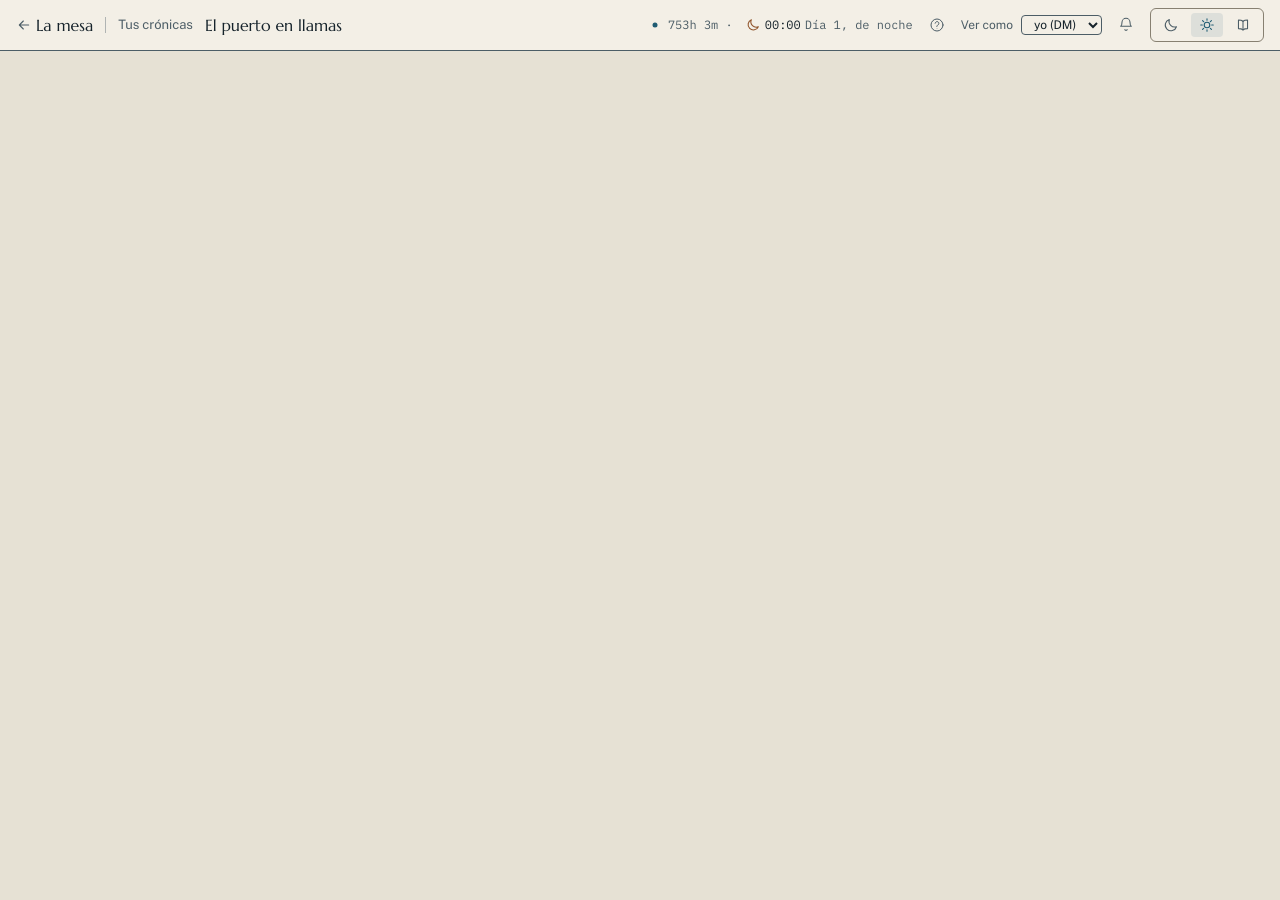
it: el diálogo de atajos › se abre con «?» y lista las teclas que de verdad existen
Click the button named "Atajos de teclado".
click(937, 25)  # box x1=925 y1=13 x2=949 y2=37
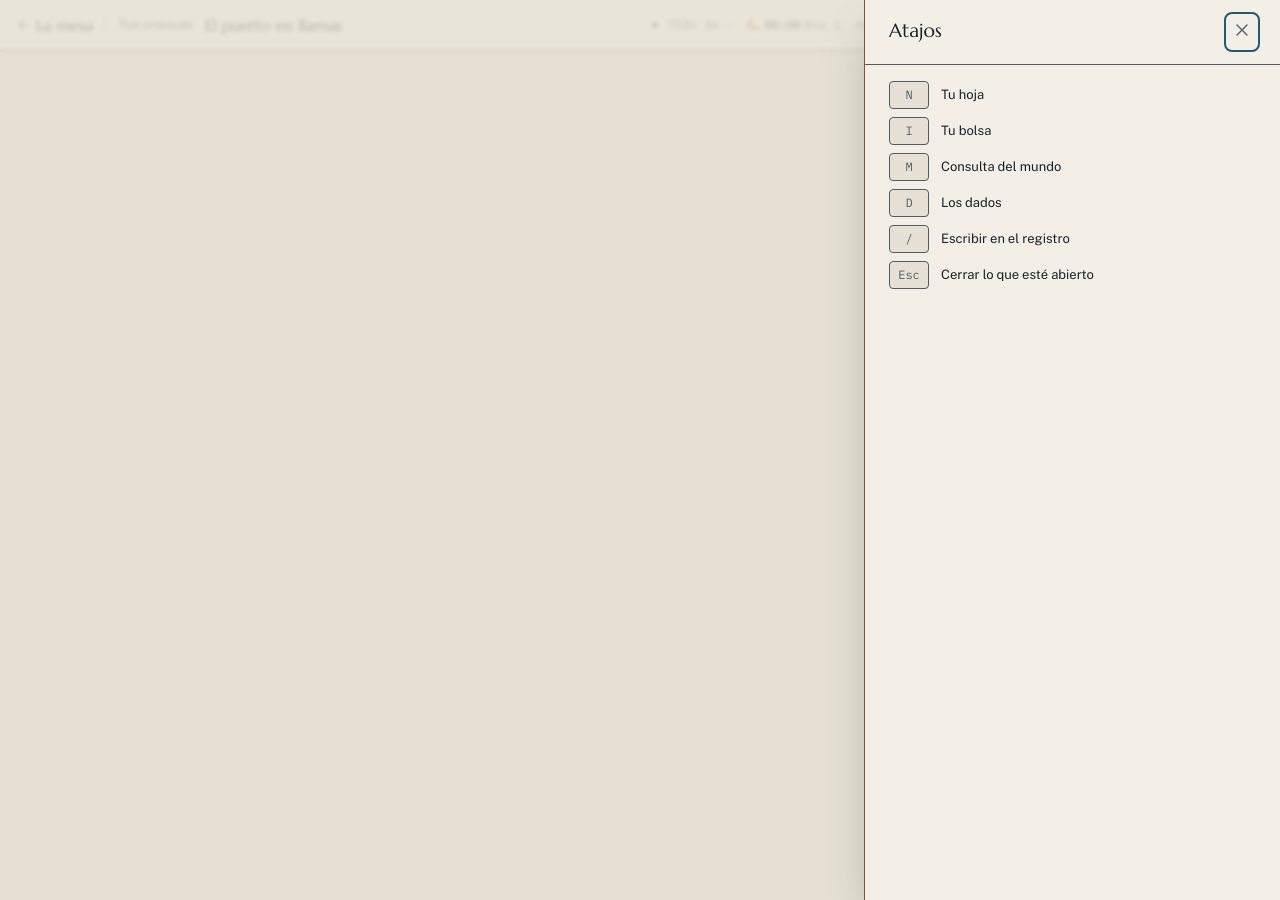
Expected: the text "N" is shown, x1=889 y1=81 x2=929 y2=109
Expected: the text "Tu hoja" is shown, x1=941 y1=85 x2=984 y2=105
Expected: the text "I" is shown, x1=889 y1=117 x2=929 y2=145
